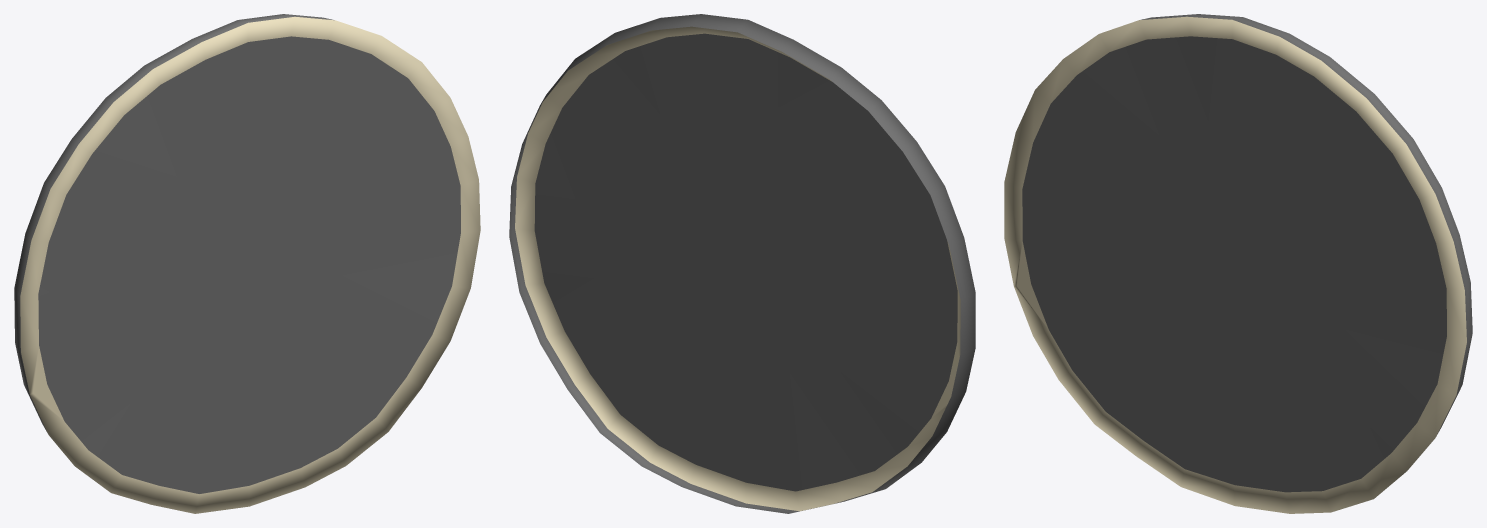
Rendered from ui_circleBackgroundLargeOutline.glb.
The picture shows the model from 3 angles, left to right: view 1: azimuth 30°, elevation 25°; view 2: azimuth 150°, elevation 25°; view 3: azimuth 330°, elevation 25°; orthographic projection.
Visible parts, largest first — view 1: Cylinder; view 2: Cylinder; view 3: Cylinder.
Boxes of the visible parts, x1,y1,x2,y2 form: Cylinder: (14,14,480,513); Cylinder: (509,14,975,513); Cylinder: (1004,14,1472,513).
Bounding box in the file's own units: 2.05 × 2.06 × 0.0906.
